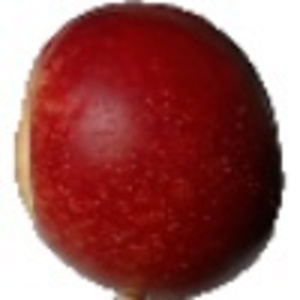nectarina: (1, 1, 284, 300)
